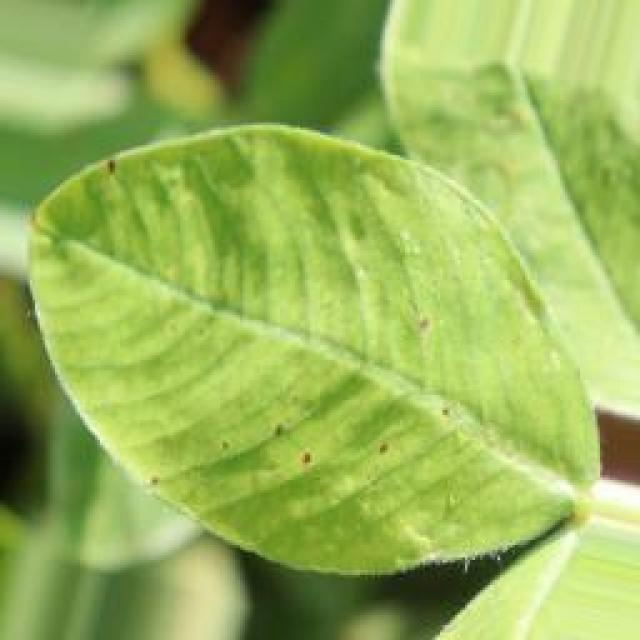Sigatoka: (408, 298, 458, 366), (424, 388, 474, 442), (287, 444, 330, 494), (130, 461, 170, 506), (96, 137, 129, 188), (264, 412, 302, 454), (206, 432, 235, 468), (373, 438, 400, 474)
